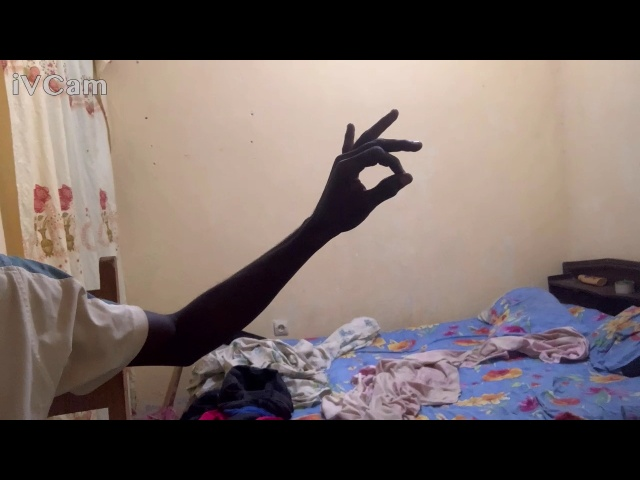oui: (317, 105, 425, 240)
